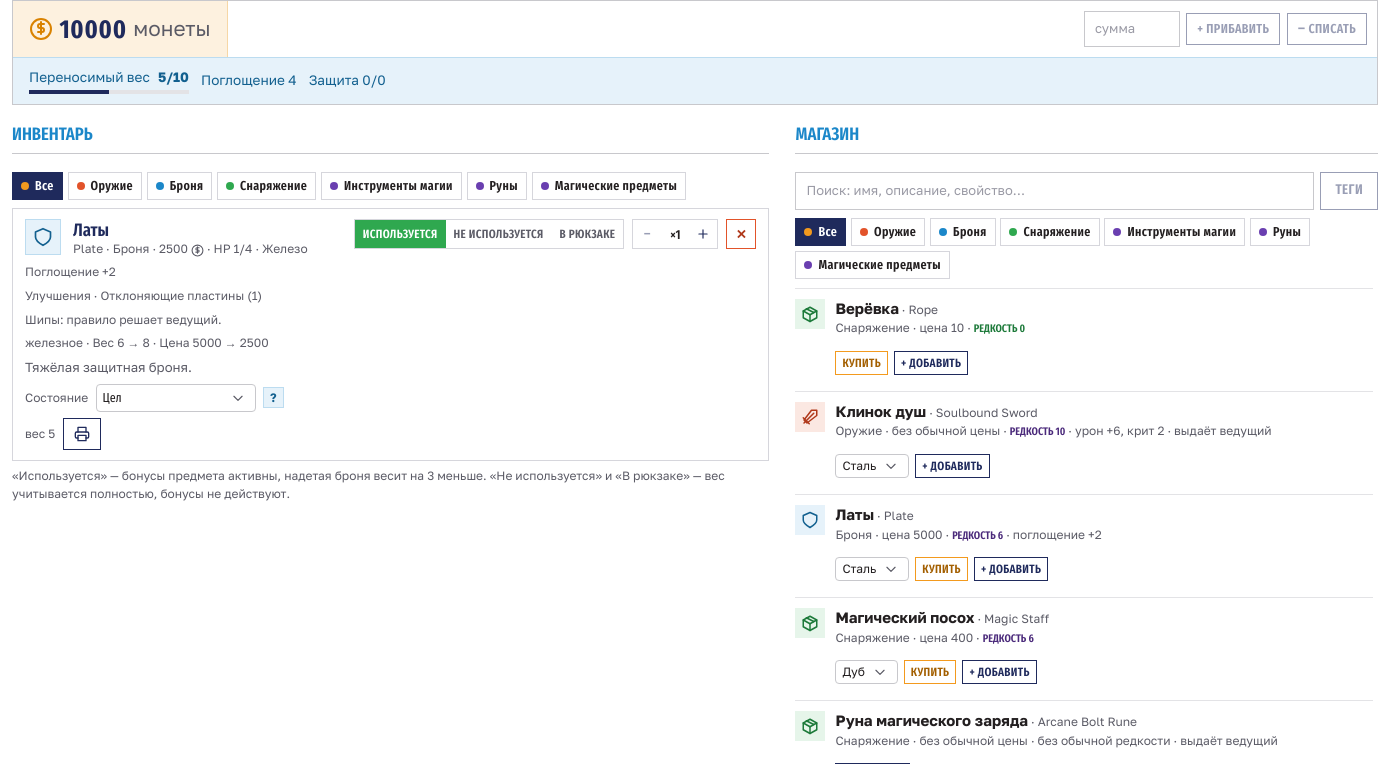
Инвентарь: качество изготовления (ROT-WPN-02) › выносит runebound shards в отдельную вкладку без обычной покупки
The image size is (1390, 764).
Click the 2nd button "Руны": (1280, 232) [1250,218,1310,246]
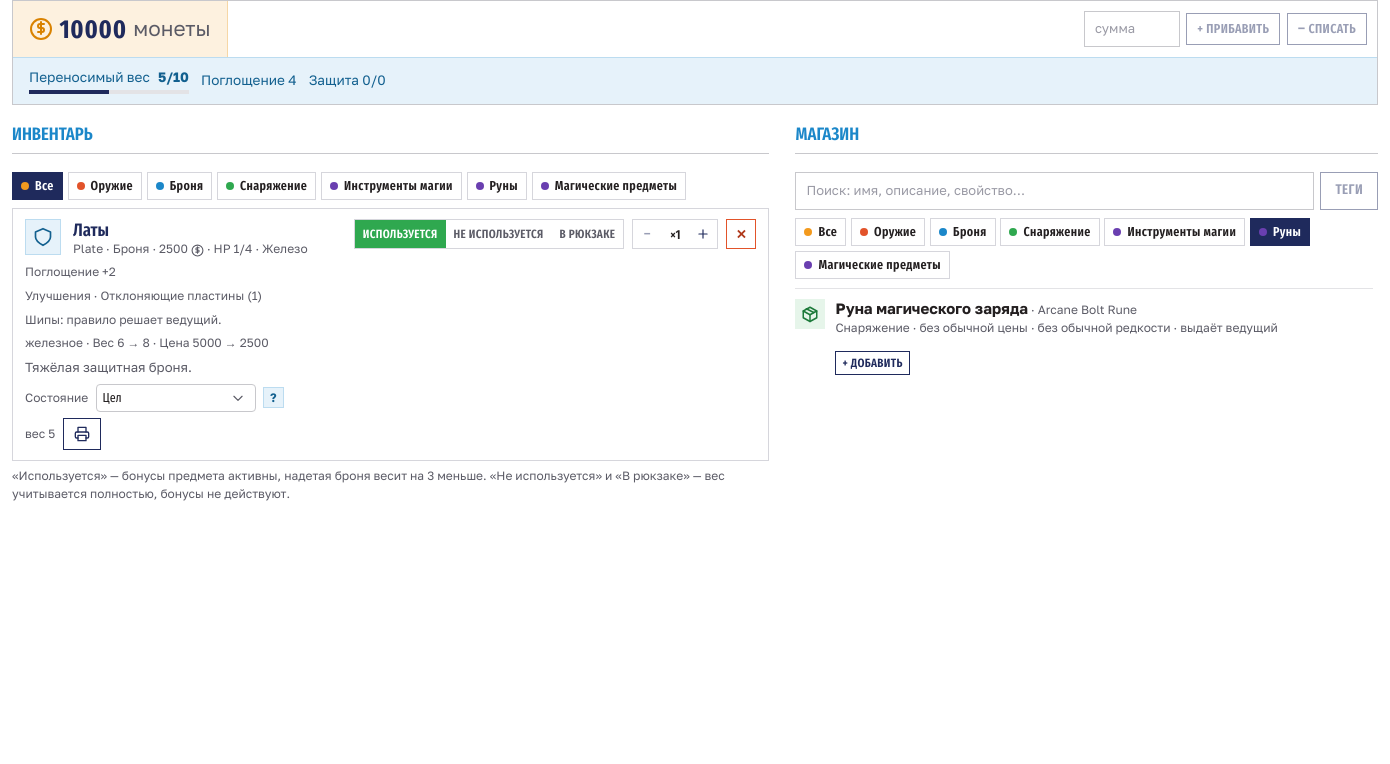
Expected: the element with class "shop-list" shows "Руна магического заряда", [835,299,1028,317]
Expected: the button "Купить" is gone
Click the button "Снаряжение" below "Магазин": (1050, 232) [1000,218,1100,246]
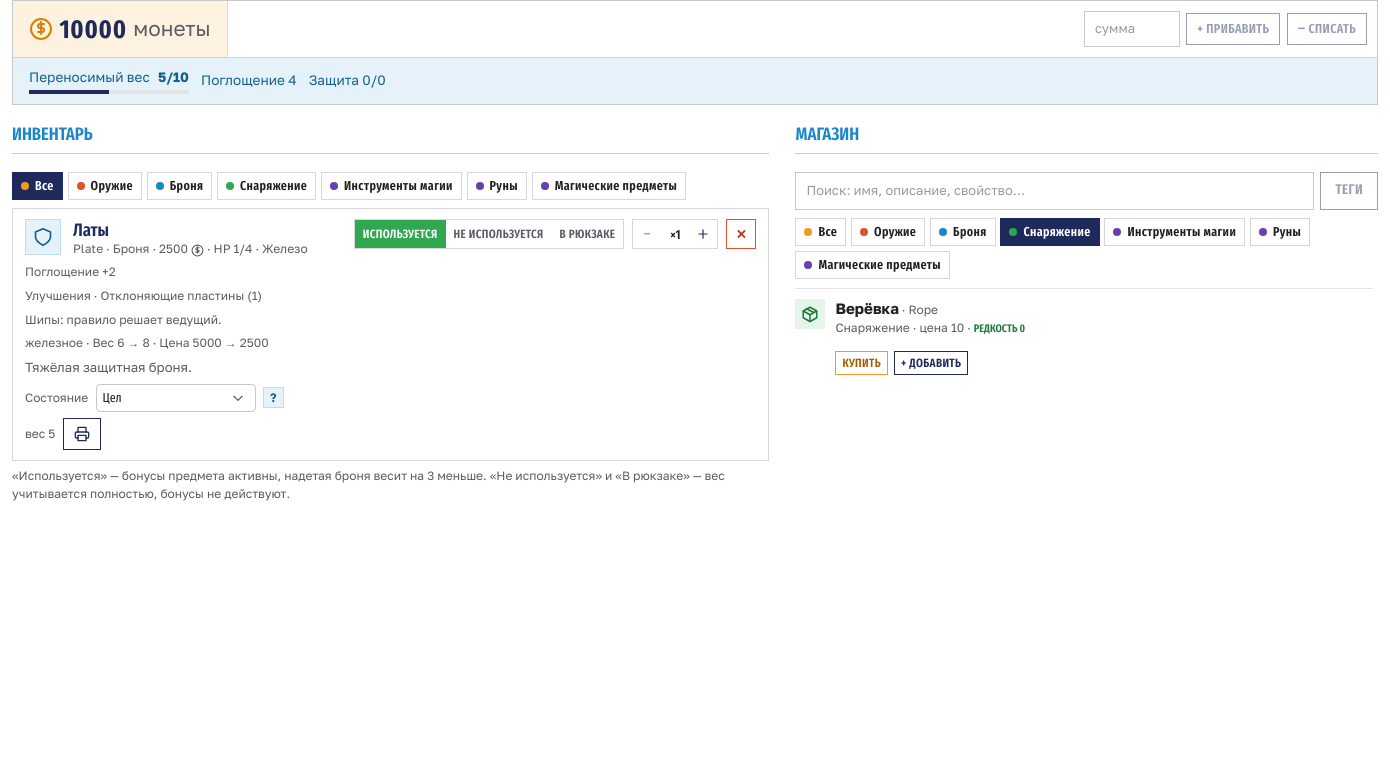
Expected: the text with class "shop-list" no longer shows "Руна магического заряда"
